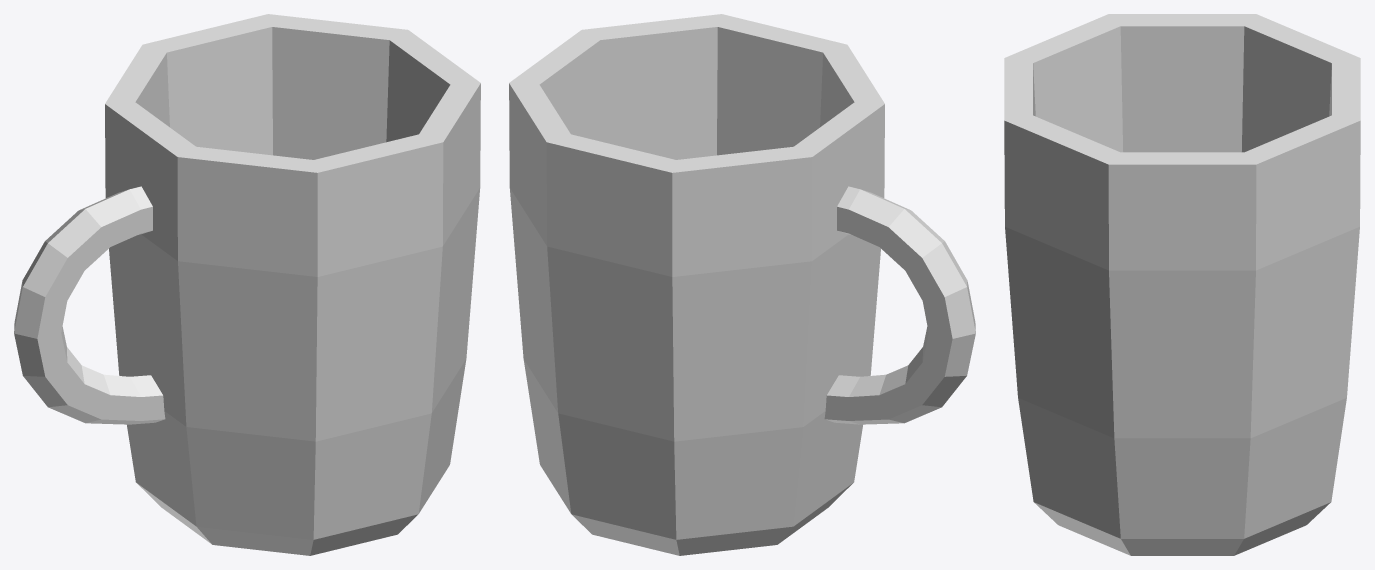
Rendered from SM_Food_Cup_01.fbx.
The picture shows the model from 3 angles, left to right: view 1: azimuth 30°, elevation 25°; view 2: azimuth 150°, elevation 25°; view 3: azimuth 270°, elevation 25°; orthographic projection.
Parts seen in each view (by area): view 1: SM_Food_Cup_01; view 2: SM_Food_Cup_01; view 3: SM_Food_Cup_01.
Part boxes in pixels (box(x1,y1,x2,y2)): SM_Food_Cup_01: box(14, 14, 480, 555); SM_Food_Cup_01: box(509, 14, 975, 555); SM_Food_Cup_01: box(1004, 14, 1360, 555).
Bounding box in the file's own units: 0.1318 × 0.1191 × 0.0929.
